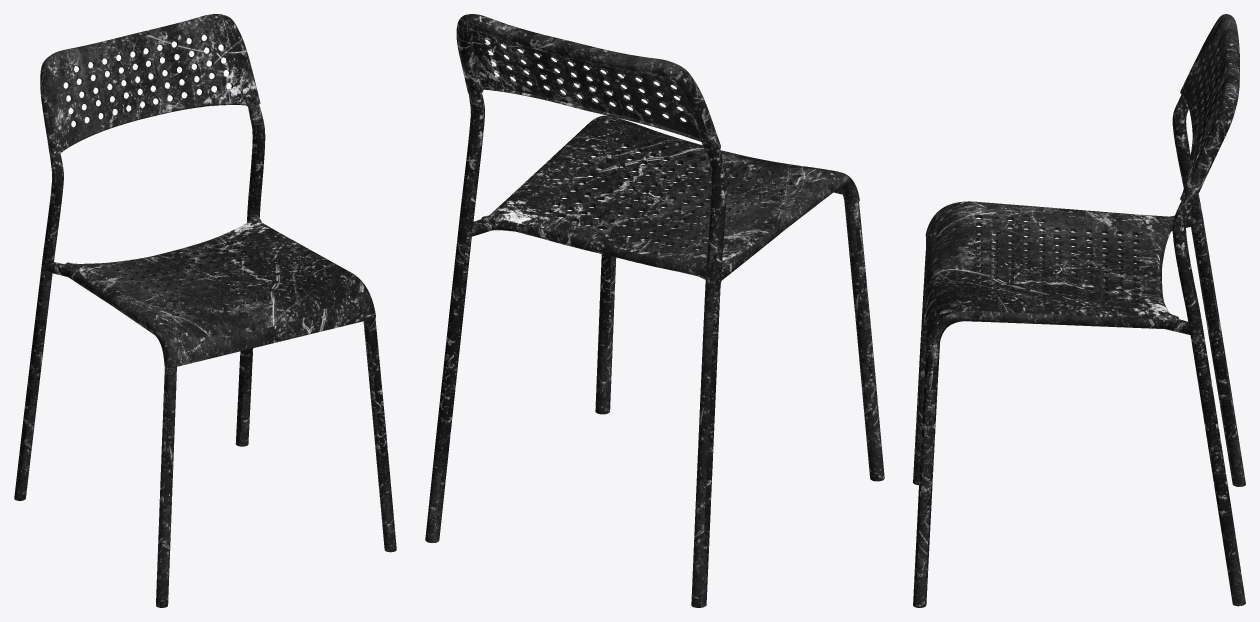
The model's file is Chair 2.glb.
3 views of the same model, side by side, from view 1: azimuth 30°, elevation 25°; view 2: azimuth 150°, elevation 25°; view 3: azimuth 270°, elevation 25° (orthographic). The views are drawn at different scales.
Visible parts, largest first — view 1: Chair - ADDE; view 2: Chair - ADDE; view 3: Chair - ADDE.
Boxes of the visible parts, bbox=[...] form: Chair - ADDE: bbox=[14, 14, 396, 607]; Chair - ADDE: bbox=[425, 14, 884, 607]; Chair - ADDE: bbox=[913, 14, 1245, 607].
Bounding box in the file's own units: 0.4358 × 0.7683 × 0.4775.
Materials: 1 (1 with a texture image).
